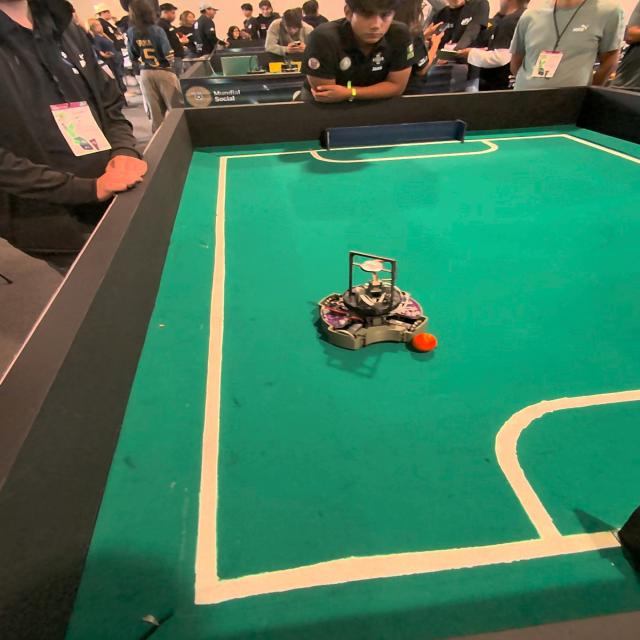Robot: (316, 269, 426, 355)
pelota: (411, 333, 438, 355)
